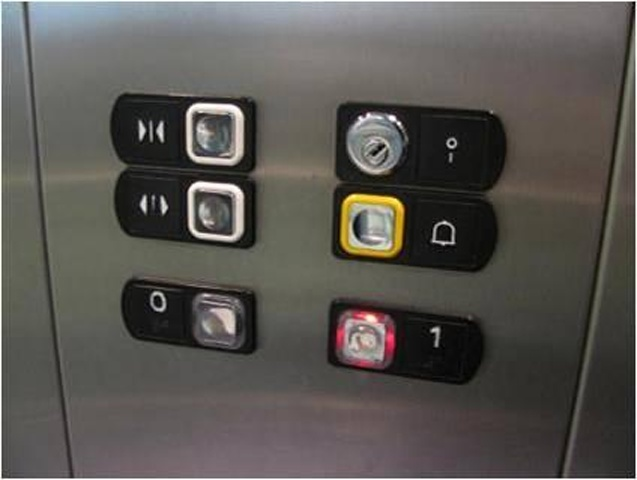0: (118, 272, 261, 356)
1: (324, 296, 492, 390)
alarm: (329, 180, 499, 274)
close: (106, 86, 258, 174)
keyhole: (332, 99, 508, 197)
open: (112, 165, 259, 251)
